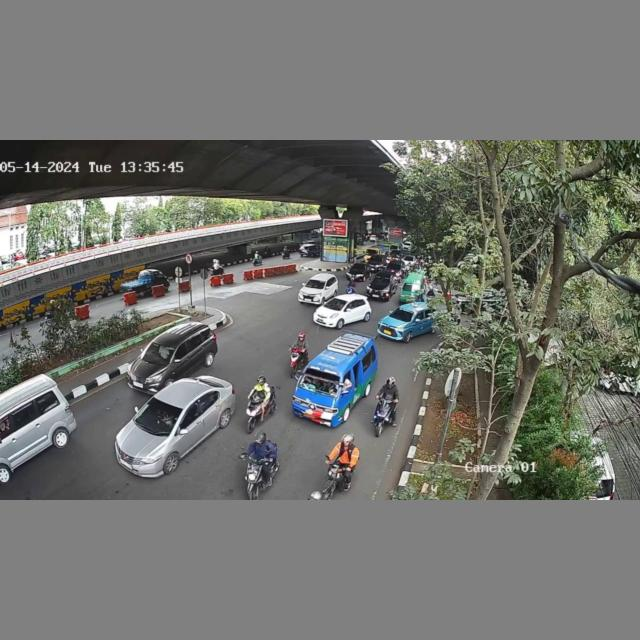windshield: (134, 397, 184, 436), (295, 364, 344, 398), (142, 341, 176, 366), (323, 297, 346, 311), (305, 278, 326, 289)
